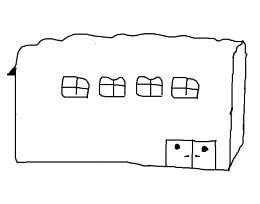closed_window: (166, 70, 205, 104), (132, 72, 169, 103), (96, 70, 131, 101), (59, 71, 92, 102)
door: (162, 125, 218, 178)
single_line_roof: (8, 16, 251, 71)
wall: (8, 49, 238, 176)
